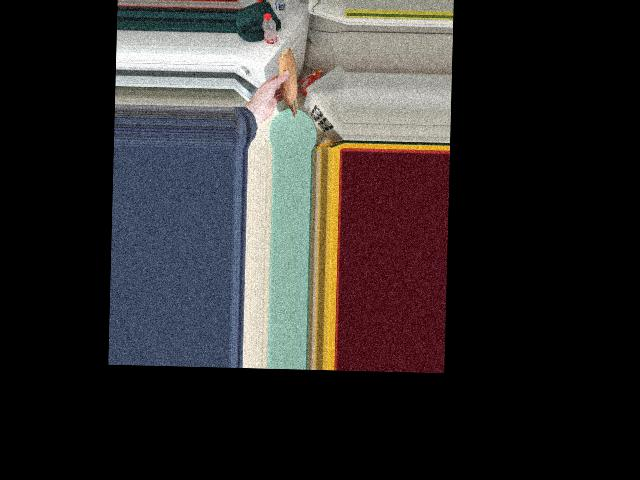sweet_potato: (277, 52, 298, 118)
